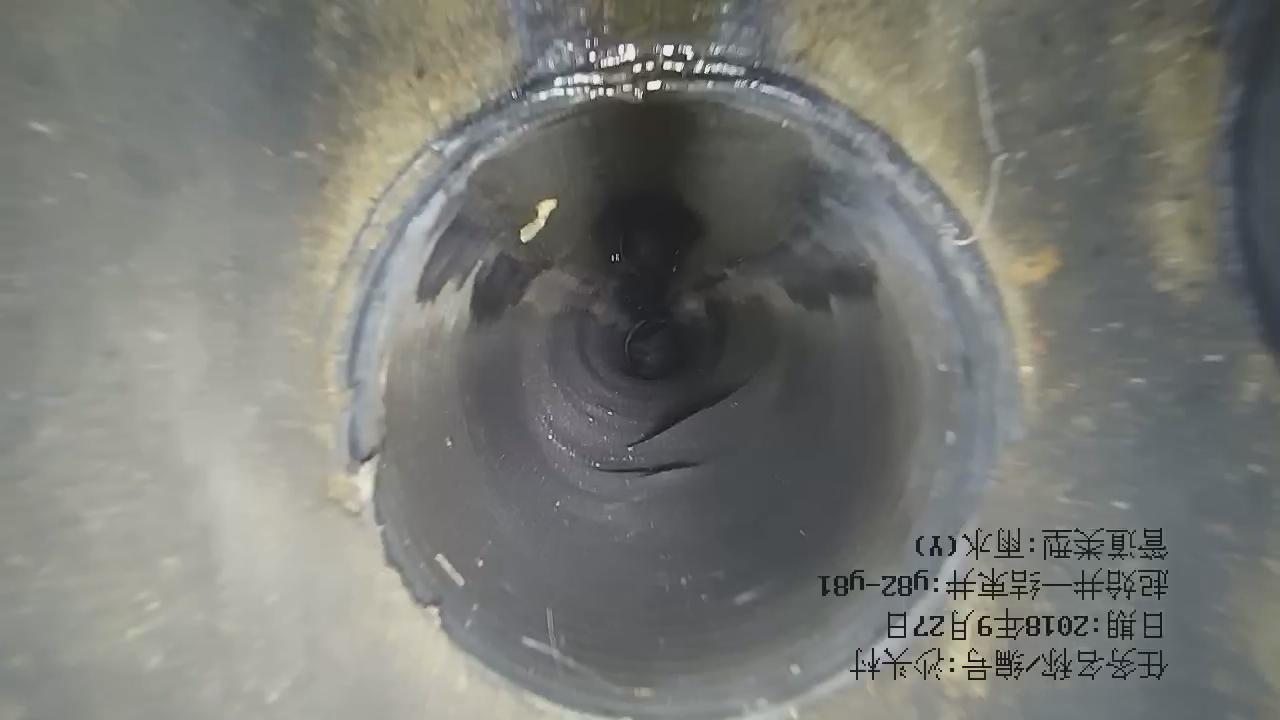BX: (553, 392, 771, 494)
